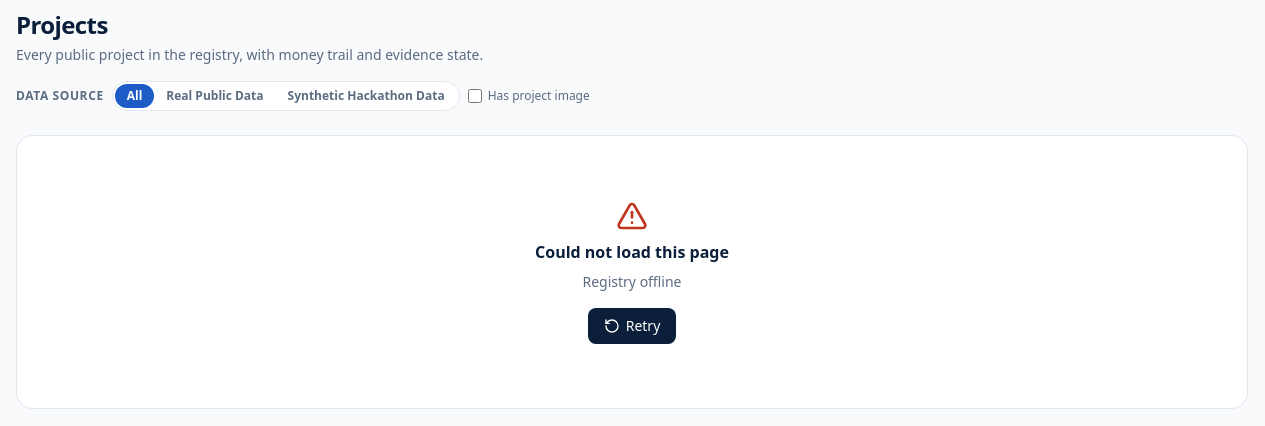
Scenario: ProjectsPage › shows an error state that recovers on retry
Expected: the message with test id "error-state" shows "Registry offline", top-left (582, 272), bottom-right (682, 291)
What coordinates should you click on to do the following:
click the button "Retry"
I would click on:
 (632, 326)
Its box is top-left (588, 308), bottom-right (676, 344).
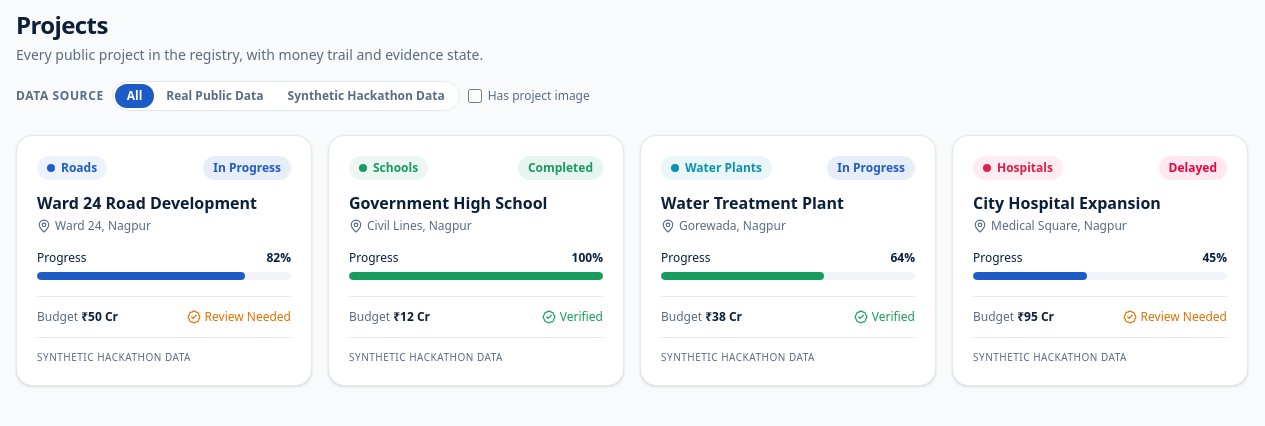
Expected: the heading "City Hospital Expansion" is shown, top-left (973, 192), bottom-right (1161, 214)
